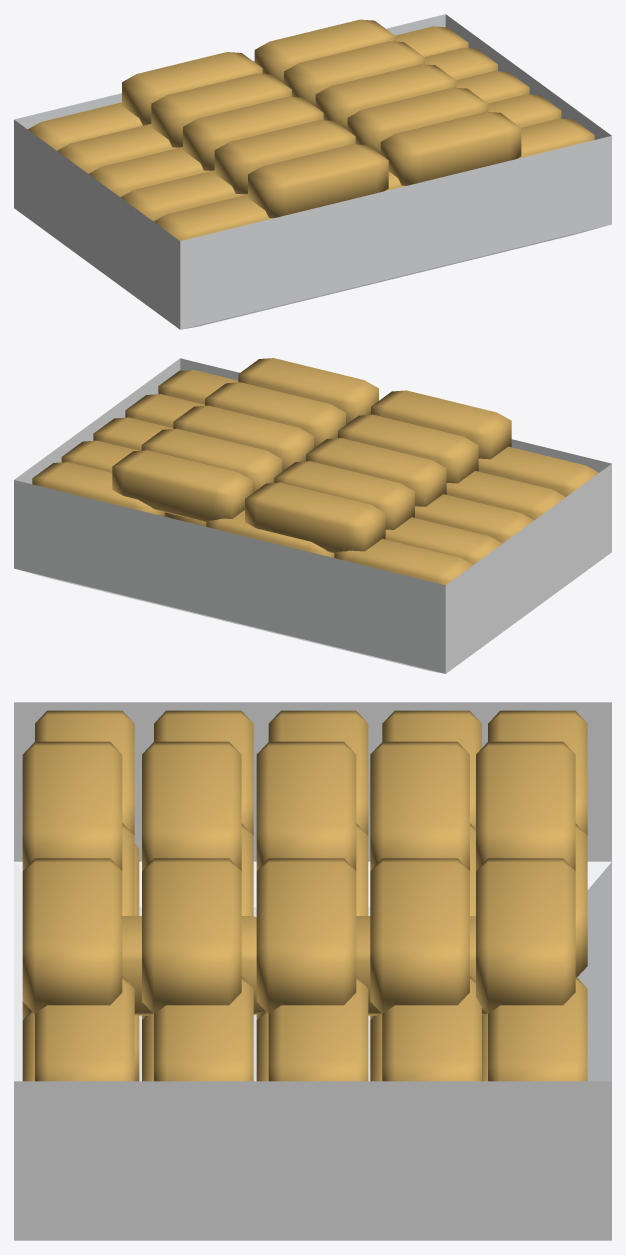
The model's file is nugget.glb.
The picture shows the model from 3 angles, top to bottom: view 1: azimuth 30°, elevation 25°; view 2: azimuth 150°, elevation 25°; view 3: azimuth 270°, elevation 25°; orthographic projection. The views are drawn at different scales.
Visible parts, largest first — view 1: Cube.025; view 2: Cube.025; view 3: Cube.025.
Part boxes in pixels (left/top/right/bottom): Cube.025: left=14, top=14, right=611, bottom=329; Cube.025: left=14, top=358, right=611, bottom=673; Cube.025: left=14, top=702, right=611, bottom=1240.
Bounding box in the file's own units: 0.18 × 0.0515 × 0.12.
